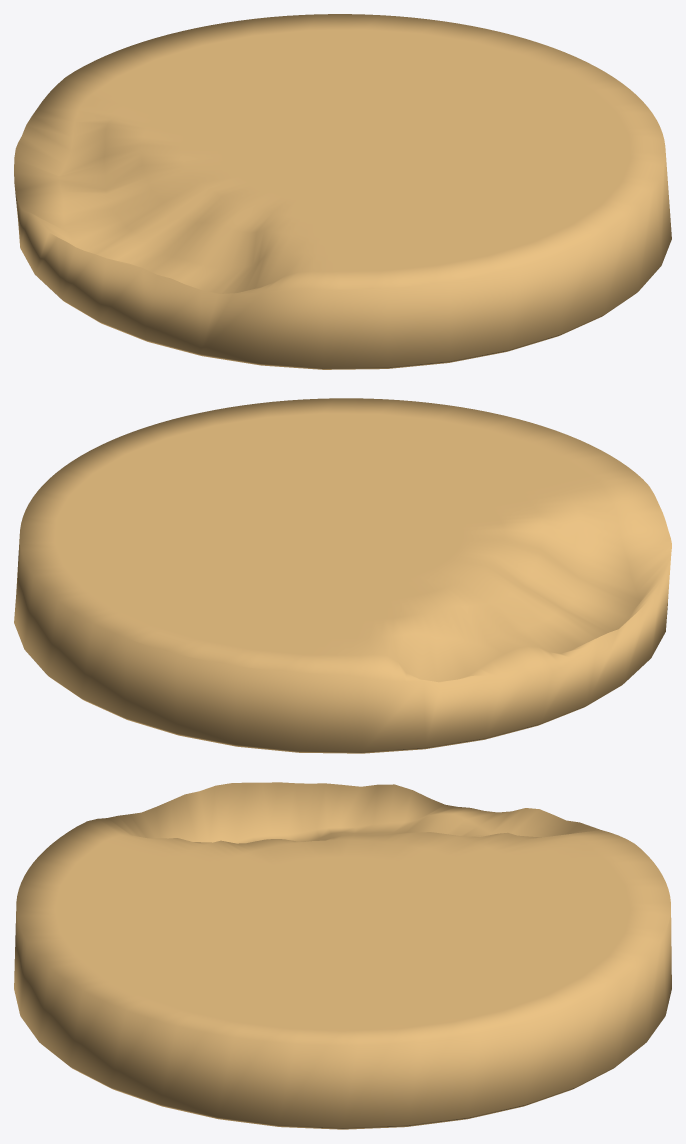
The model's file is sand.glb.
3 views of the same model, one above another, from view 1: azimuth 30°, elevation 25°; view 2: azimuth 150°, elevation 25°; view 3: azimuth 270°, elevation 25° (orthographic).
Visible parts, largest first — view 1: Sand; view 2: Sand; view 3: Sand.
Boxes of the visible parts, box(x1,y1,x2,y2) form: Sand: box(14, 14, 671, 369); Sand: box(14, 398, 671, 753); Sand: box(14, 782, 671, 1129).
Bounding box in the file's own units: 3.84 × 0.5294 × 3.82.
